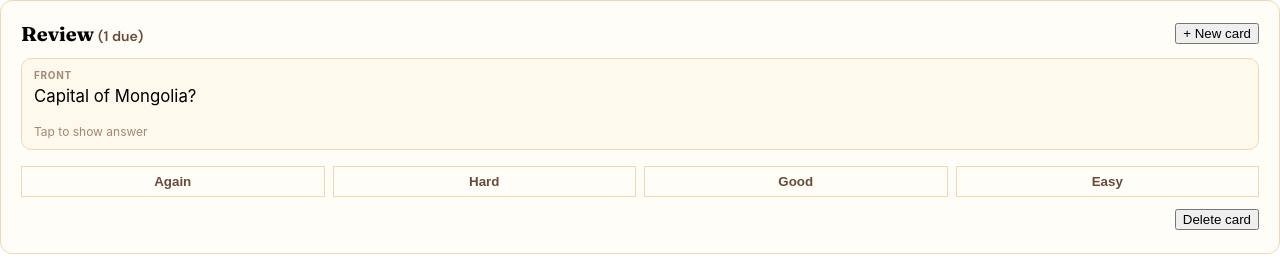
Test: Delete card on a two-sided card does not flip it
This screenshot has width=1280, height=271.
Click the button "Delete card" at (1217, 220), box [1175,209,1259,230]
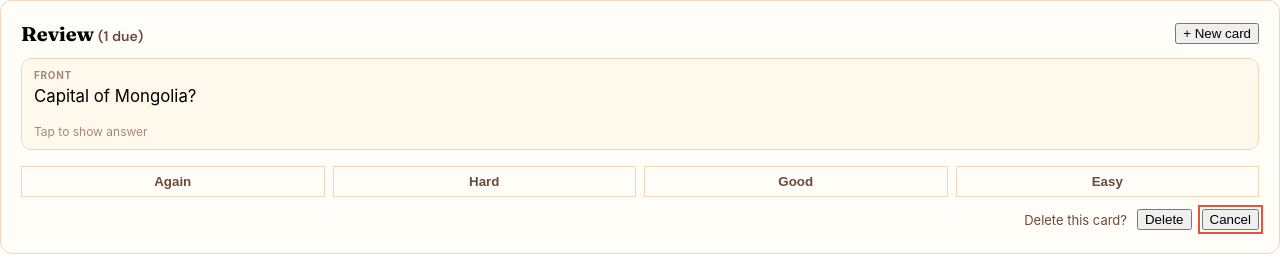
Expected: the text "Delete this card?" is shown, [1024,212,1127,228]
